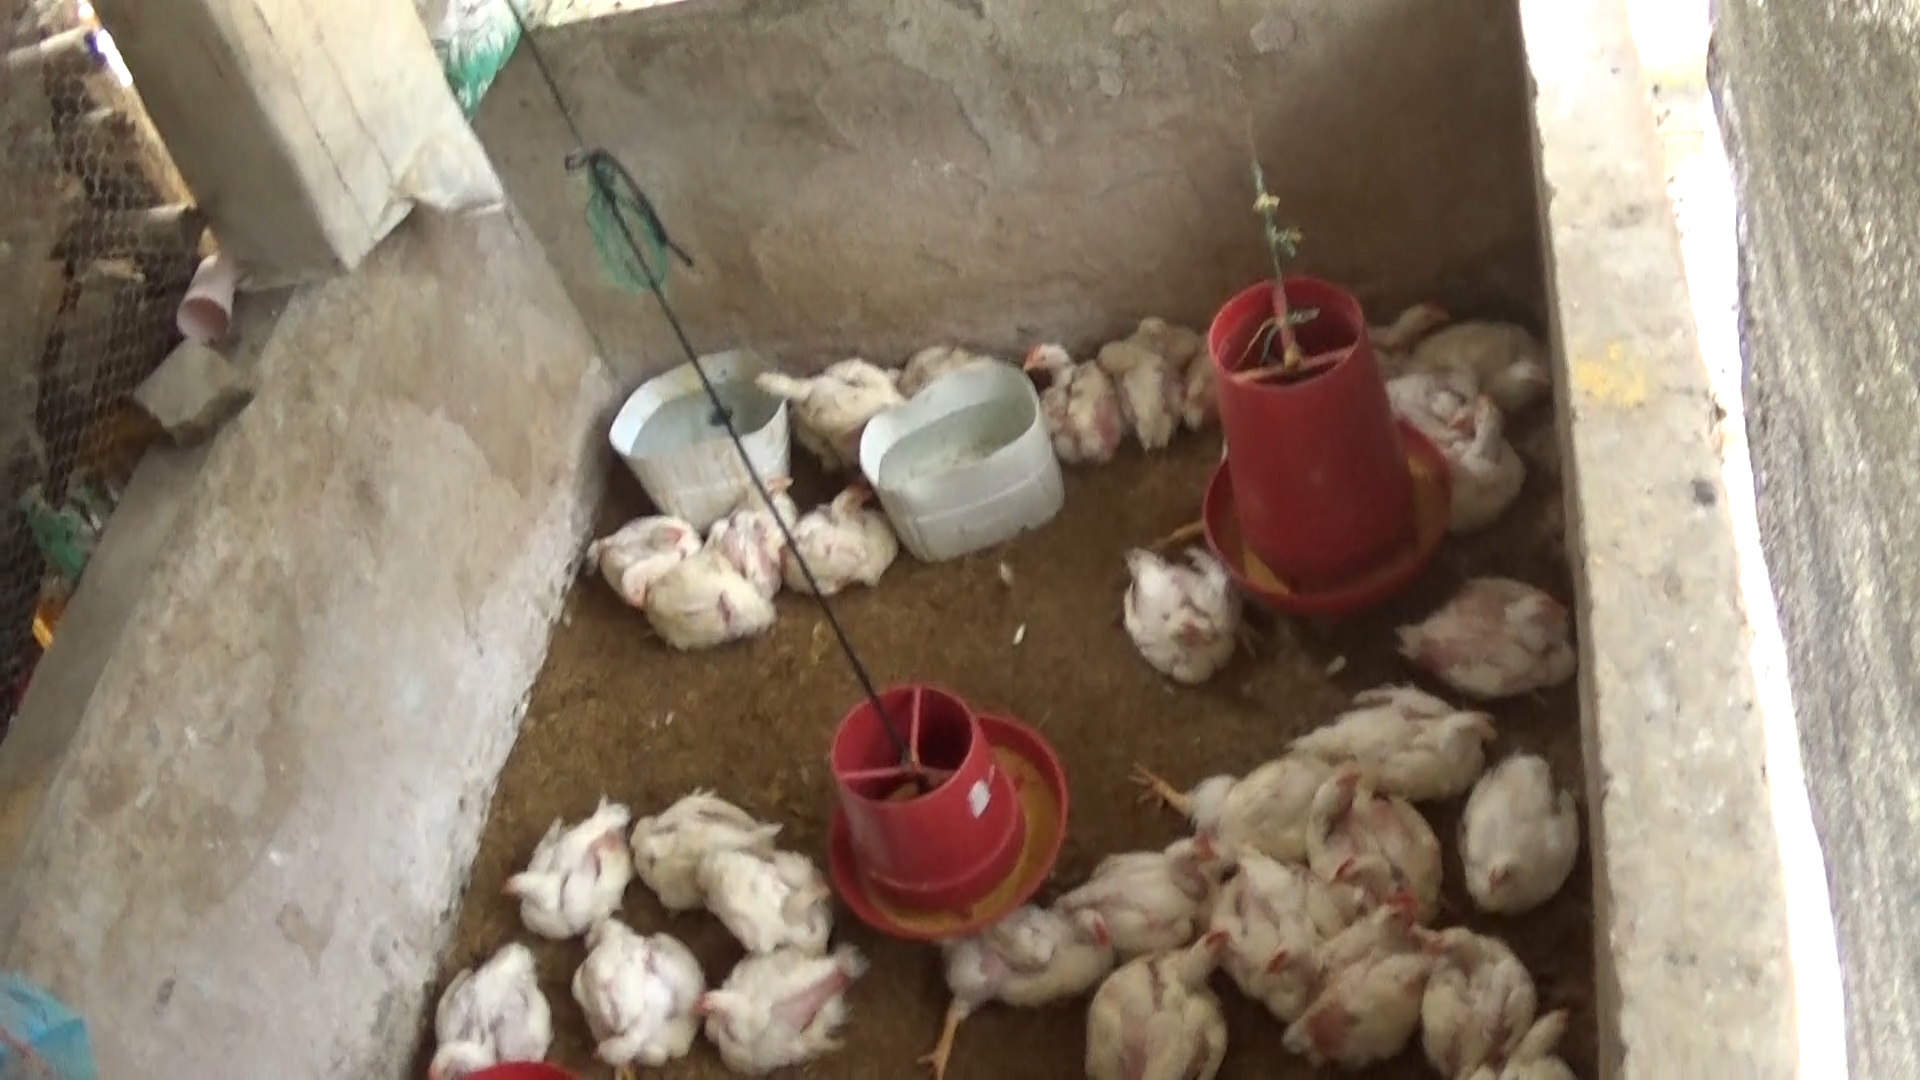Pollos: (1284, 669, 1505, 814), (1137, 741, 1352, 874), (1455, 748, 1594, 942), (607, 782, 786, 911), (1076, 928, 1240, 1069), (1287, 905, 1431, 1063), (1395, 558, 1571, 687), (694, 948, 893, 1062), (1377, 368, 1524, 517), (928, 891, 1112, 1011), (491, 791, 630, 938), (417, 924, 542, 1080), (1215, 845, 1328, 1009), (571, 905, 691, 1058), (1114, 531, 1246, 667), (1311, 786, 1443, 920), (691, 832, 840, 948), (1427, 918, 1531, 1072), (1019, 327, 1126, 462), (1087, 833, 1218, 940), (750, 343, 897, 438), (658, 537, 770, 651), (1120, 311, 1212, 440), (789, 462, 874, 593), (587, 509, 692, 605), (1354, 289, 1452, 353), (717, 493, 781, 585)
